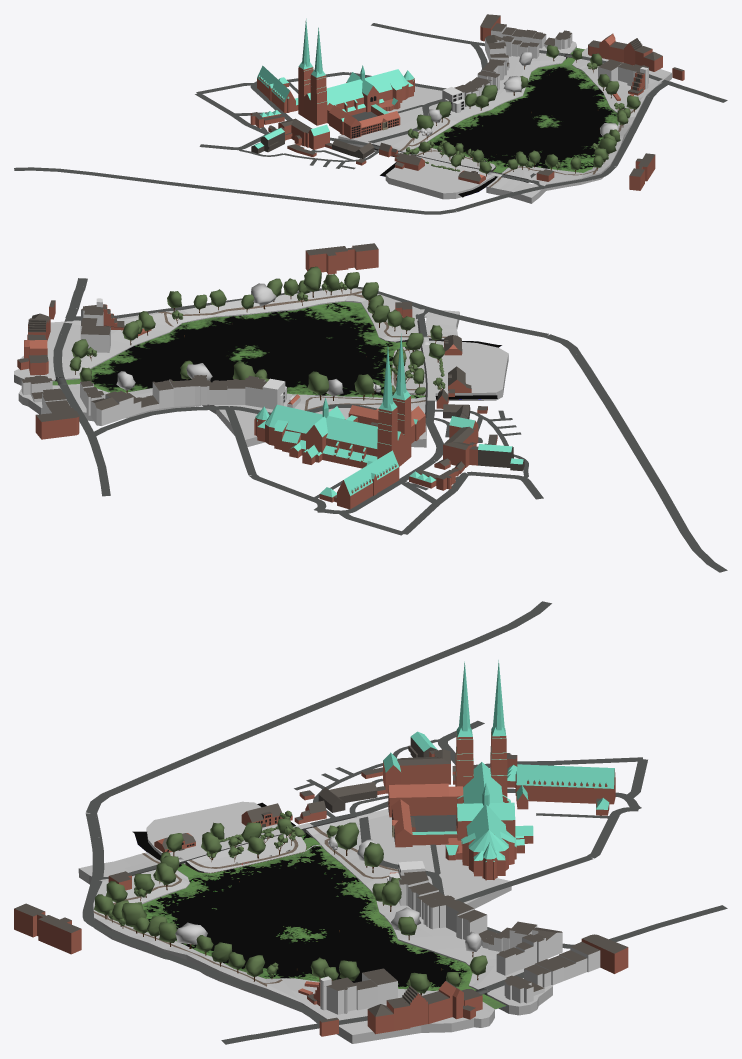
File: Muehlenteich.fbx
The picture shows the model from 3 angles, top to bottom: view 1: azimuth 30°, elevation 25°; view 2: azimuth 150°, elevation 25°; view 3: azimuth 270°, elevation 25°; orthographic projection. The views are drawn at different scales.
Visible parts, largest first — view 1: map_10.osm_buildings, map_10.osm_water.003, Plane, map_10.osm_roads_secondary, map_10.osm_roads_residential, map_10.osm_roads_service, Cube.024, map_10.osm_roads_tertiary, map_10.osm_roads_residential.001; view 2: map_10.osm_buildings, map_10.osm_water.003, Plane, map_10.osm_roads_residential, map_10.osm_roads_secondary, map_10.osm_roads_tertiary, map_10.osm_roads_service, map_10.osm_roads_residential.001, Cube.024; view 3: map_10.osm_buildings, map_10.osm_water.003, Plane, map_10.osm_roads_secondary, map_10.osm_roads_residential, Cube.024, map_10.osm_roads_service, map_10.osm_roads_tertiary, map_10.osm_areas_pedestrian.
Boxes of the visible parts, x1,y1,x2,y2 form: map_10.osm_buildings: (250,14,684,190); map_10.osm_water.003: (380,48,618,197); Plane: (338,41,671,203); map_10.osm_roads_secondary: (14,81,727,214); map_10.osm_roads_residential: (195,44,542,186); map_10.osm_roads_service: (237,81,535,180); Cube.024: (372,144,528,182); map_10.osm_roads_tertiary: (371,23,668,82); map_10.osm_roads_residential.001: (398,151,485,186); map_10.osm_buildings: (17,243,524,509); map_10.osm_water.003: (52,301,501,399); Plane: (14,288,508,447); map_10.osm_roads_residential: (94,310,543,535); map_10.osm_roads_secondary: (65,278,727,572); map_10.osm_roads_tertiary: (53,318,110,496); map_10.osm_roads_service: (311,320,528,499); map_10.osm_roads_residential.001: (422,345,490,400); Cube.024: (391,321,427,417); map_10.osm_buildings: (14,660,628,1036); map_10.osm_water.003: (125,802,506,1009); Plane: (78,801,552,1043); map_10.osm_roads_secondary: (82,601,551,1044); map_10.osm_roads_residential: (99,720,647,948); Cube.024: (132,816,356,875); map_10.osm_roads_service: (131,739,613,876); map_10.osm_roads_tertiary: (339,905,727,1024); map_10.osm_areas_pedestrian: (410,815,456,831).
Size of the model in its own units: 73373 by 12598 by 49925.
